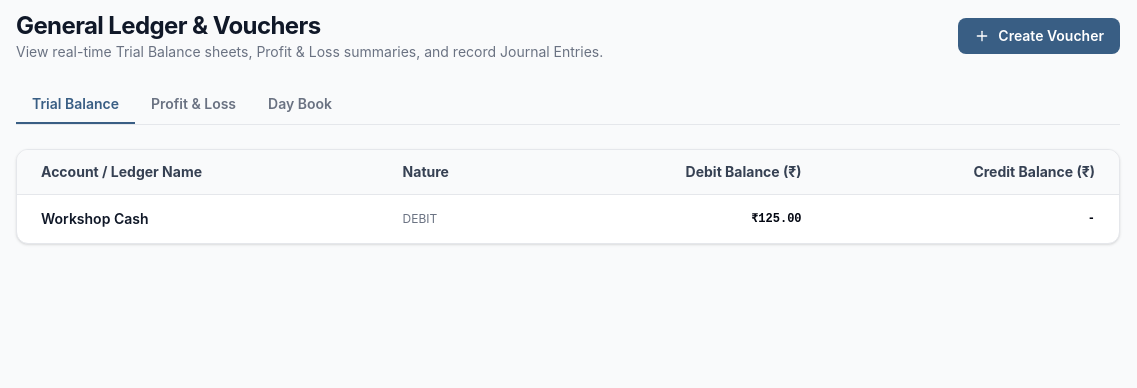
Test case: renders trial balance and profit reports using the backend response contracts
Expected: the text "Workshop Cash" is shown, x1=17 y1=194 x2=379 y2=243
Expected: the text "₹125.00" is shown, x1=542 y1=194 x2=826 y2=243
Click the button "Profit & Loss". click: (194, 105)
box: x1=135 y1=86 x2=252 y2=124
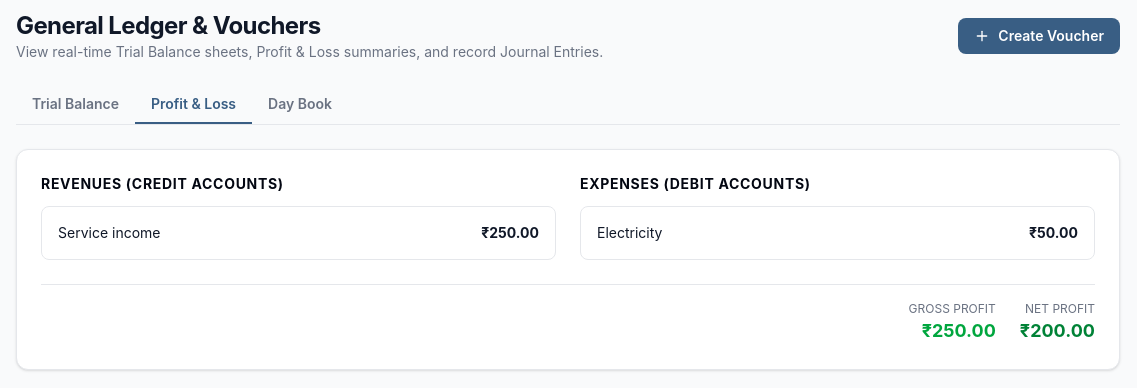
Expected: the text "Service income" is shown, x1=58 y1=223 x2=160 y2=243
Expected: the text "Electricity" is shown, x1=597 y1=223 x2=662 y2=243
Expected: the text "₹200.00" is shown, x1=1020 y1=317 x2=1095 y2=345
